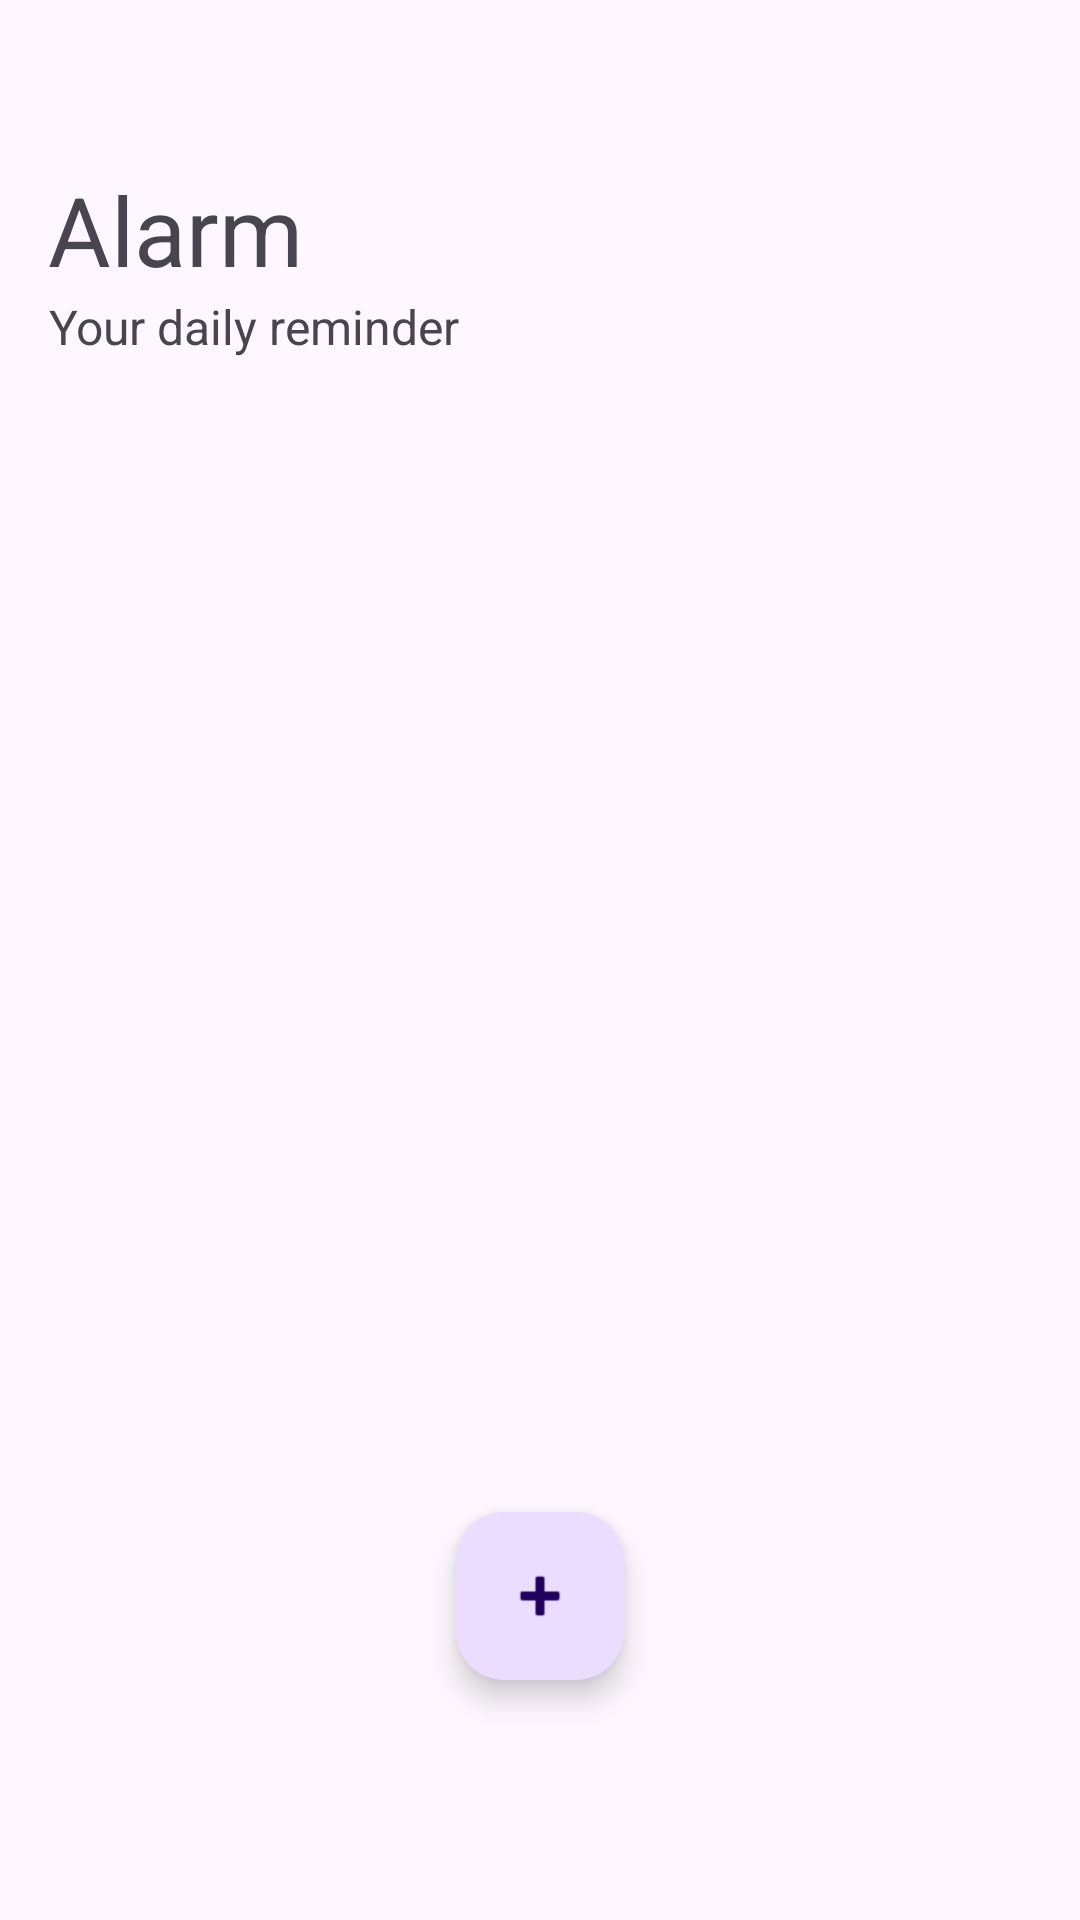

Icon bounding boxes for this 1080 x 1920 phone screenshot, format (x1, y1, x2, y2):
add: (456, 1512, 624, 1680)
